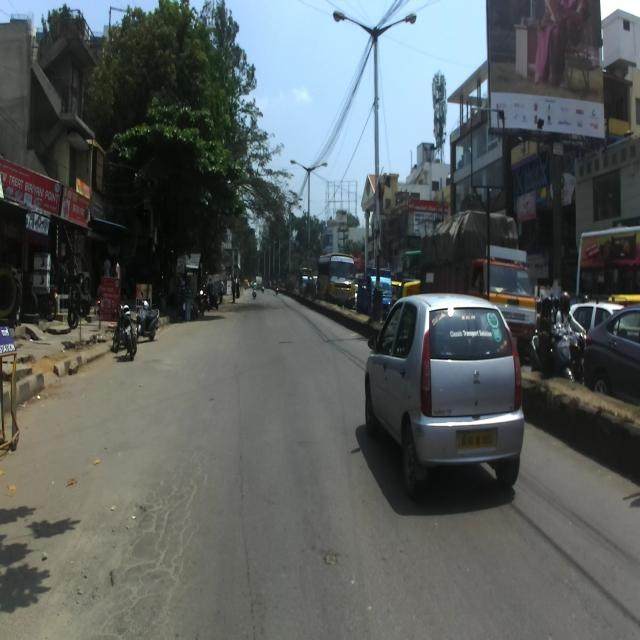bus: (317, 252, 357, 308)
car: (362, 288, 525, 500), (582, 301, 640, 404)
scooter: (528, 321, 574, 381), (134, 292, 160, 341)
truck: (421, 208, 536, 370)
